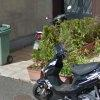Motorcycle: (20, 44, 100, 100)
